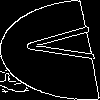V: (24, 25, 100, 63)
